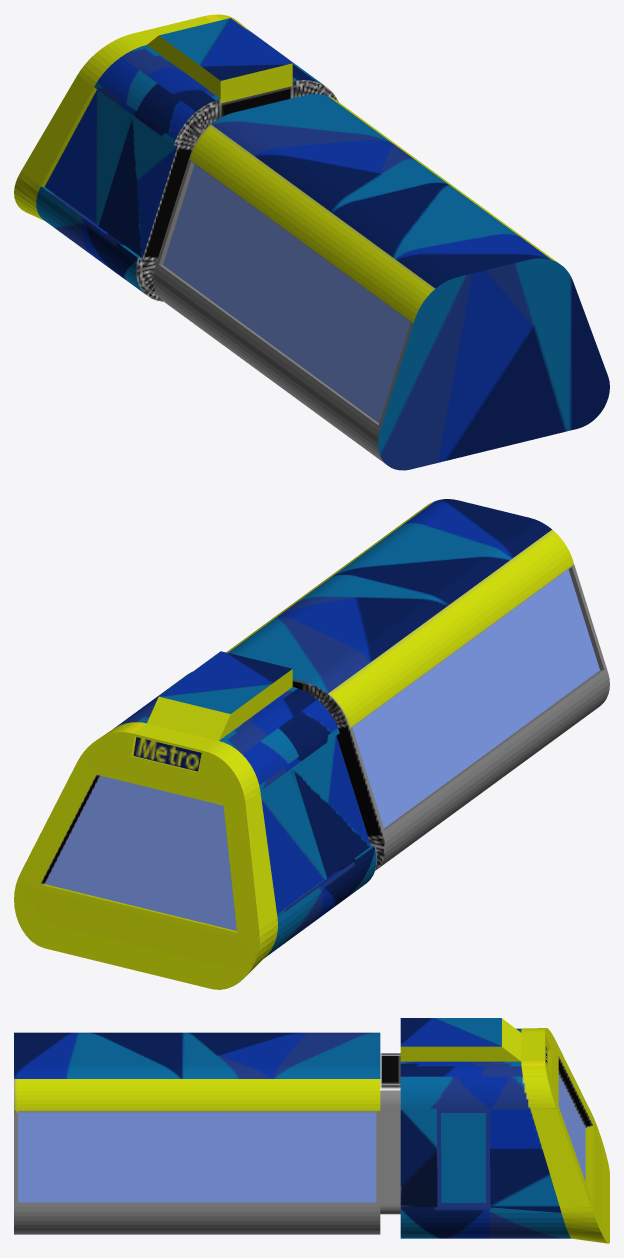
File: Train_Model_Beta_02.fbx
3 renders of one model, top to bottom at view 1: azimuth 30°, elevation 25°; view 2: azimuth 150°, elevation 25°; view 3: azimuth 270°, elevation 25°, orthographic. The views are drawn at different scales.
Visible parts, largest first — view 1: polySurface55; view 2: polySurface55; view 3: polySurface55.
Part boxes in pixels (left/top/right/bottom): polySurface55: left=14, top=14, right=609, bottom=470; polySurface55: left=14, top=499, right=609, bottom=989; polySurface55: left=14, top=1018, right=609, bottom=1243.
Size of the model in its own units: 564 by 475 by 1464.
Materials: 1 (1 with a texture image).
